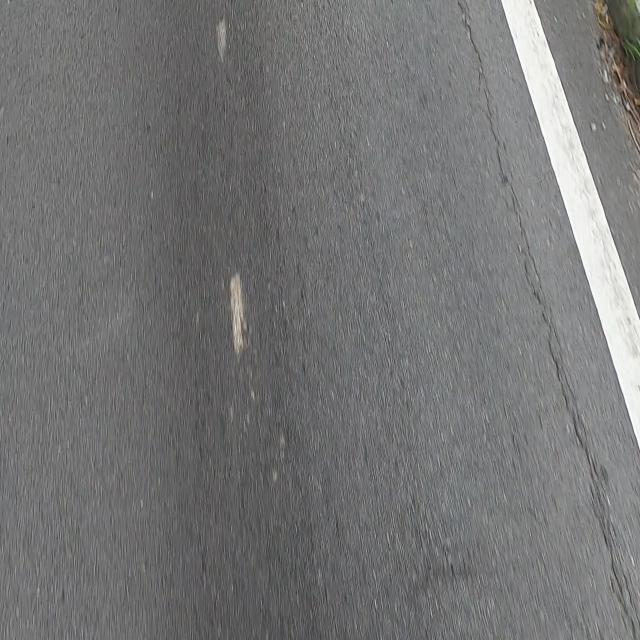Retak-Memanjang: (453, 0, 632, 640)
